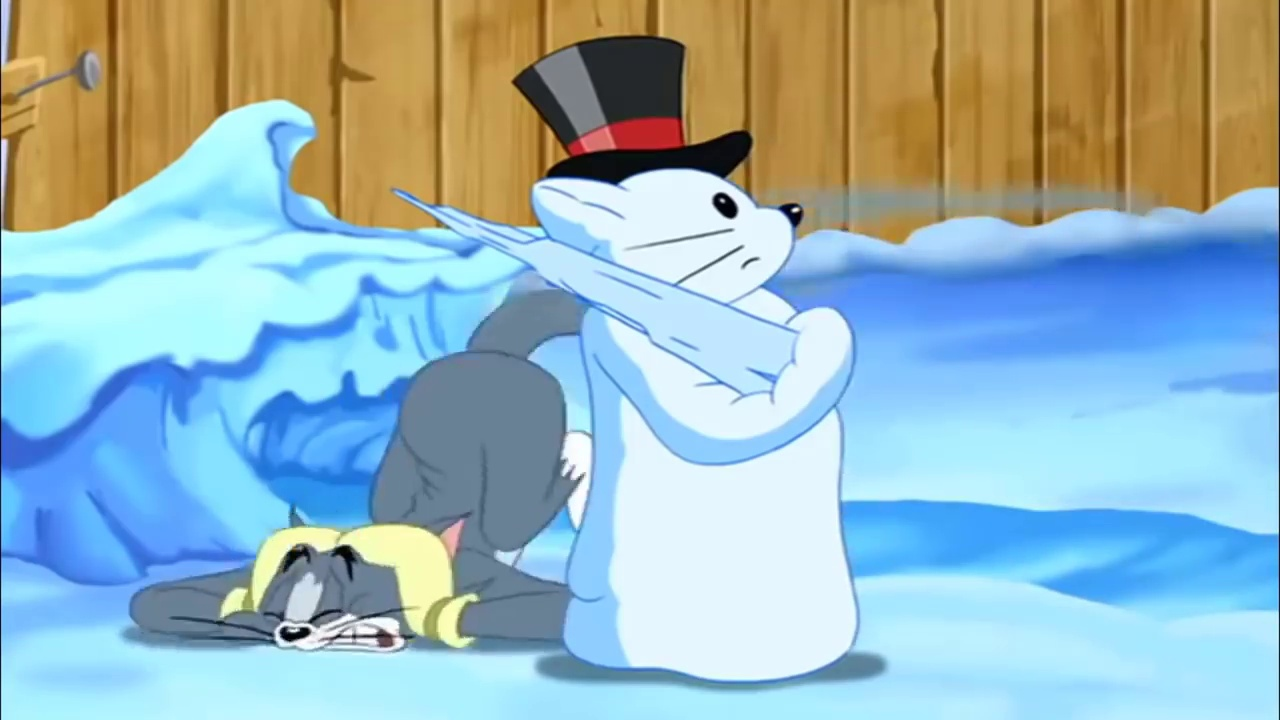face: (259, 543, 407, 655)
